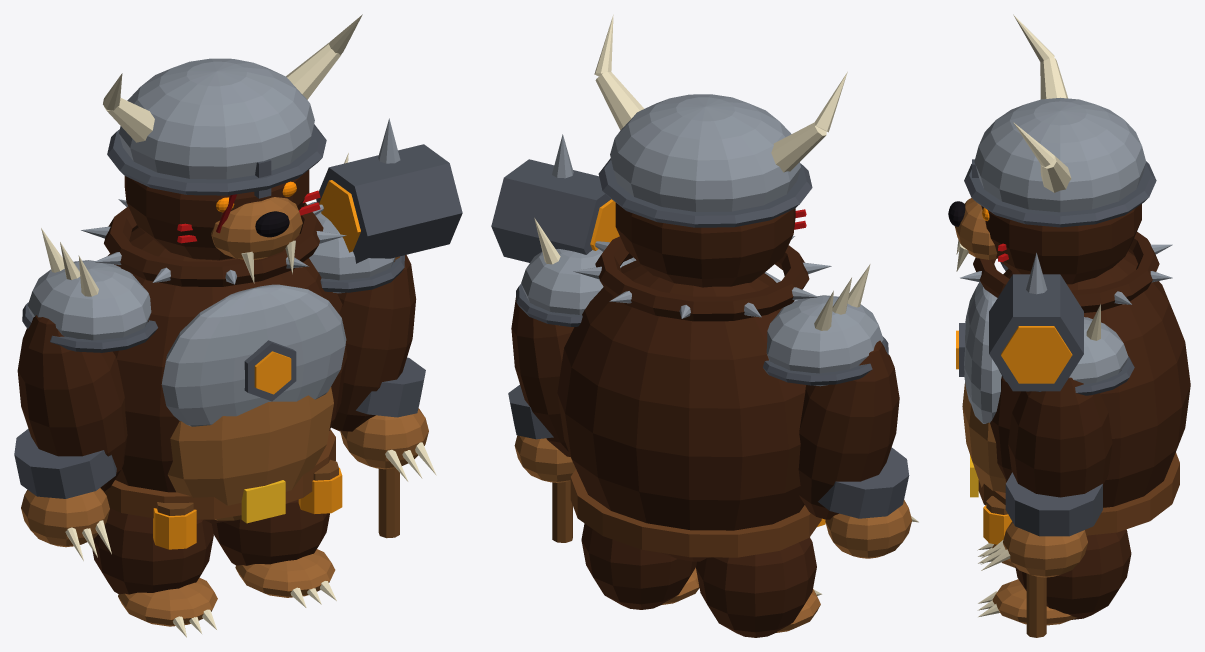
File: OsoTitan.fbx
3 views of the same model, side by side, from view 1: azimuth 30°, elevation 25°; view 2: azimuth 150°, elevation 25°; view 3: azimuth 270°, elevation 25° (orthographic). The views are drawn at different scales.
Parts seen in each view (by area): view 1: Cuerpo, Brillo_Miel; view 2: Cuerpo, Brillo_Miel; view 3: Cuerpo, Brillo_Miel.
Boxes of the visible parts, x1,y1,x2,y2 form: Cuerpo: (14, 14, 462, 637); Brillo_Miel: (254, 180, 360, 394); Cuerpo: (491, 14, 918, 637); Brillo_Miel: (590, 199, 619, 250); Cuerpo: (948, 14, 1190, 637); Brillo_Miel: (956, 326, 1072, 383).
Size of the model in its own units: 729 by 974 by 409.
1 material, 1 textured.
